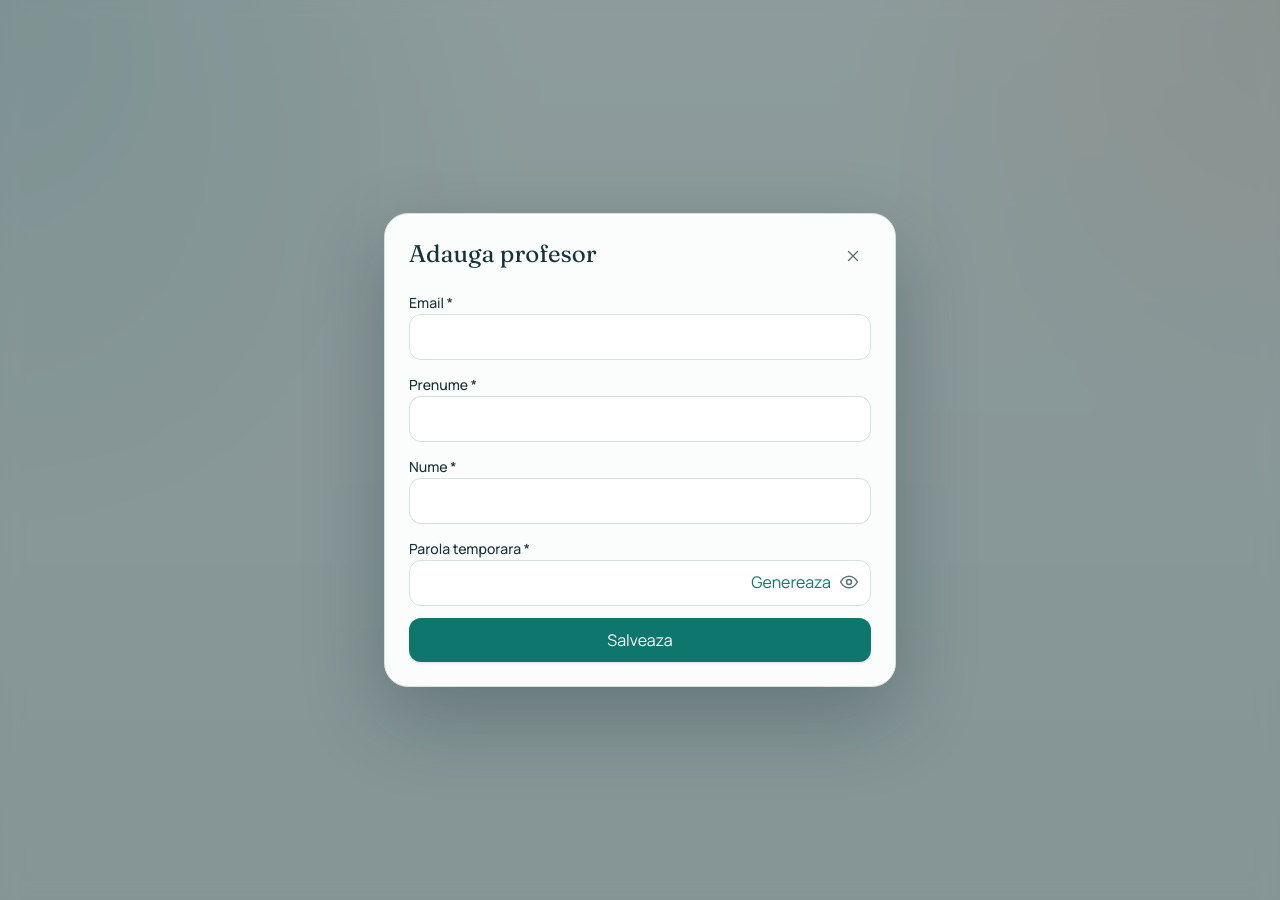
it: TeacherFormModal › keeps the form open when the server refuses the data
This screenshot has width=1280, height=900.
In the field labelled "Email *": point(640, 337) left=409, top=314, right=871, bottom=360, type "prof@scoala.ro"
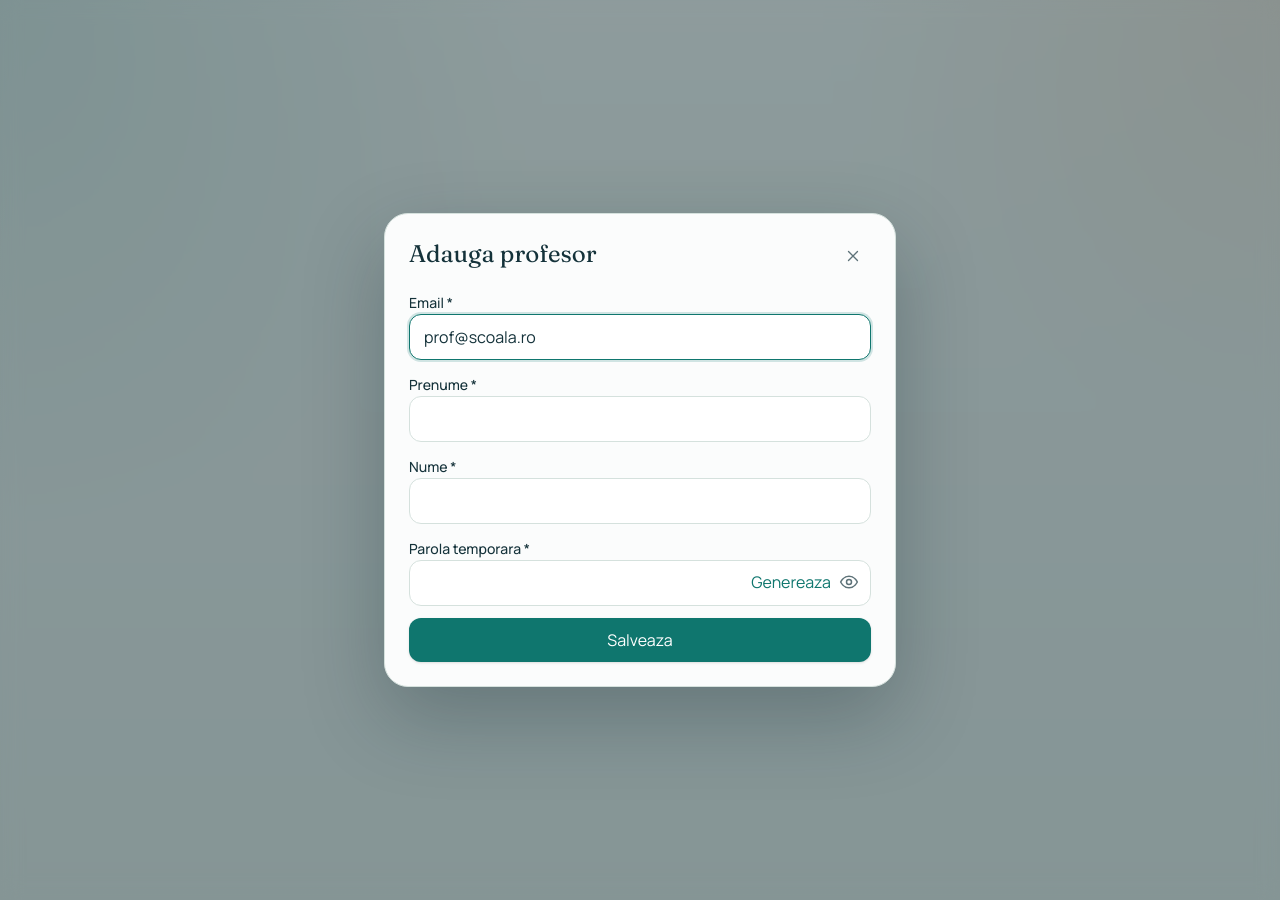
In the field labelled "Prenume *": point(640, 419) left=409, top=396, right=871, bottom=442, type "Ion"
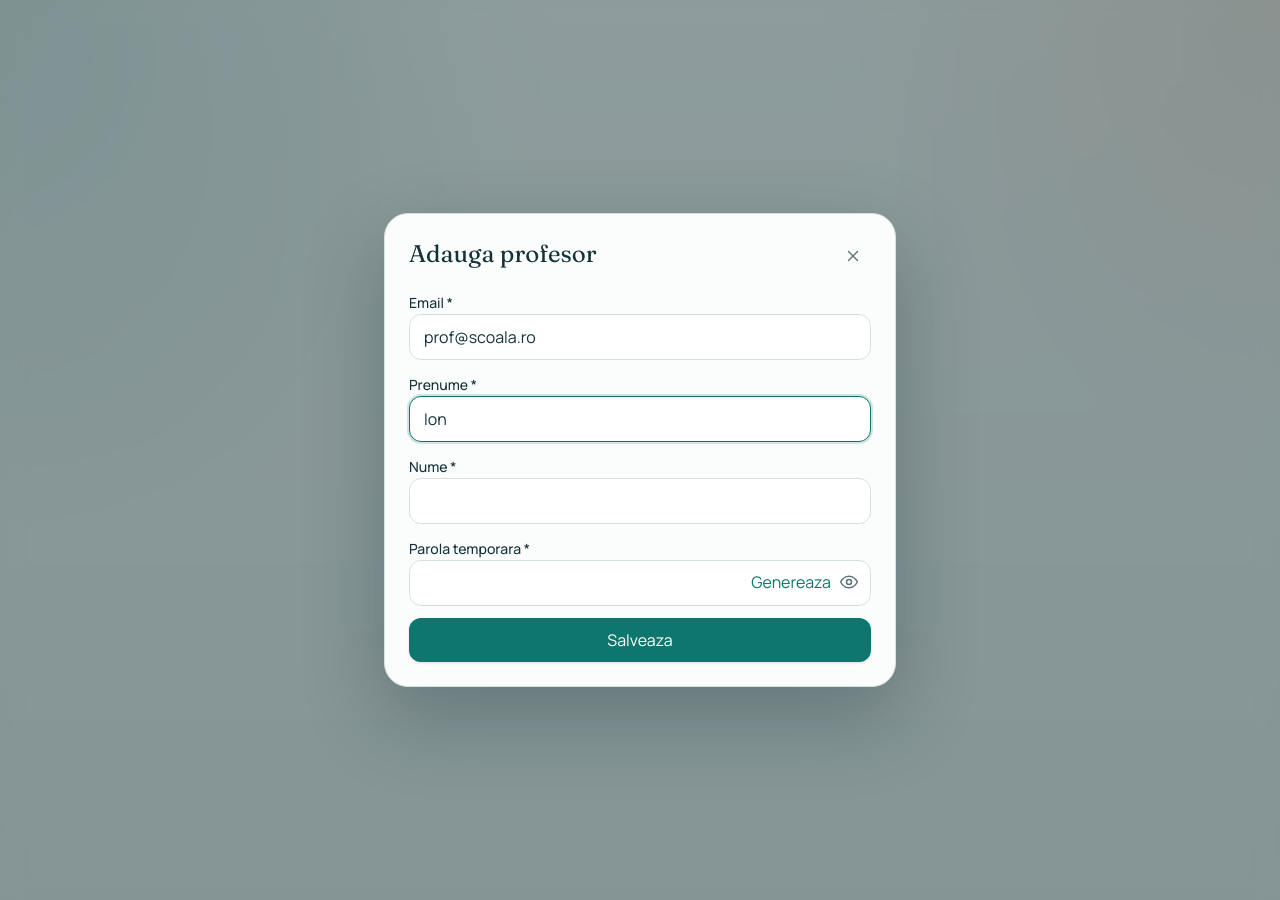
In the field labelled "Nume *": point(640, 501) left=409, top=478, right=871, bottom=524, type "Pop"
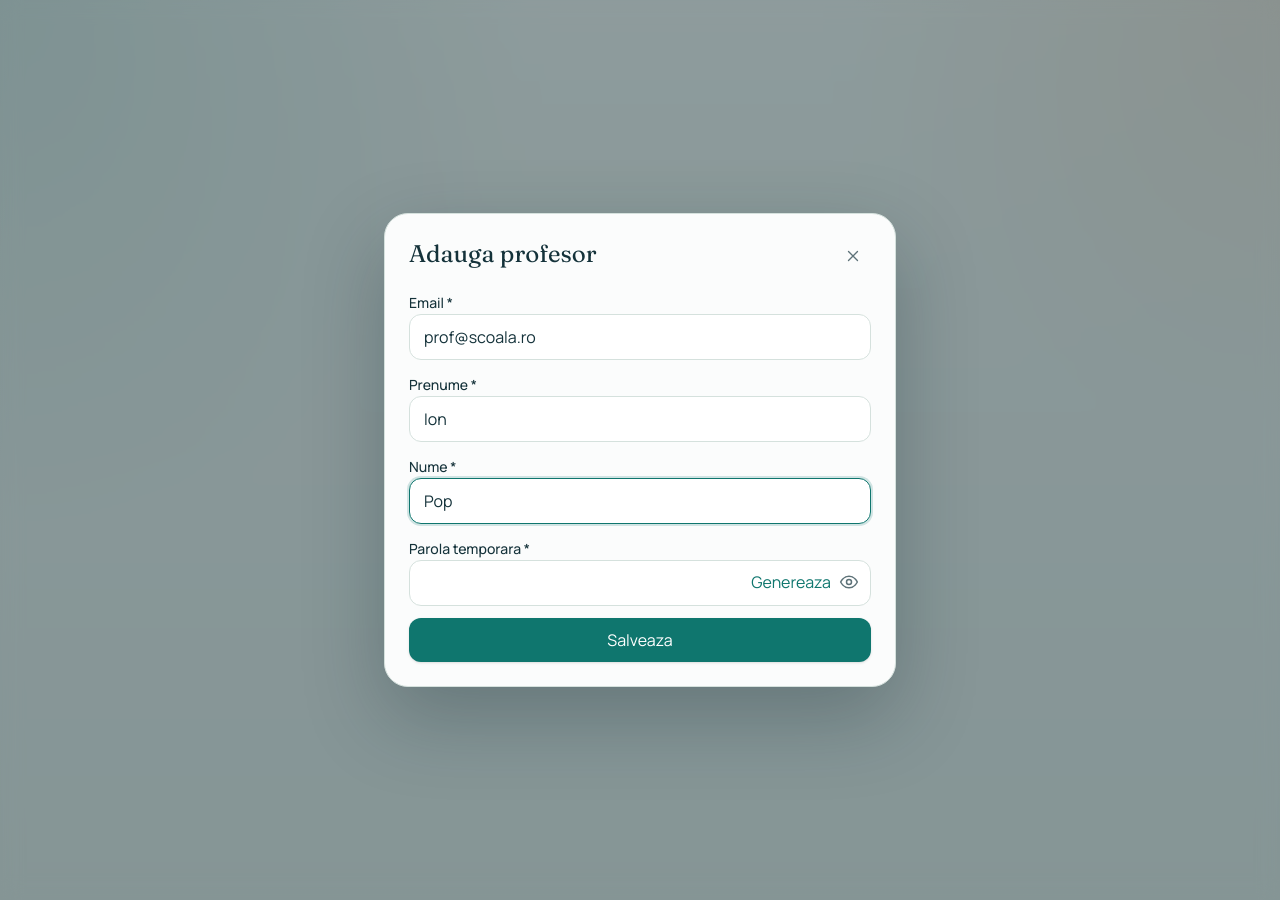
Click the button "Genereaza": point(791, 582) left=751, top=570, right=831, bottom=594
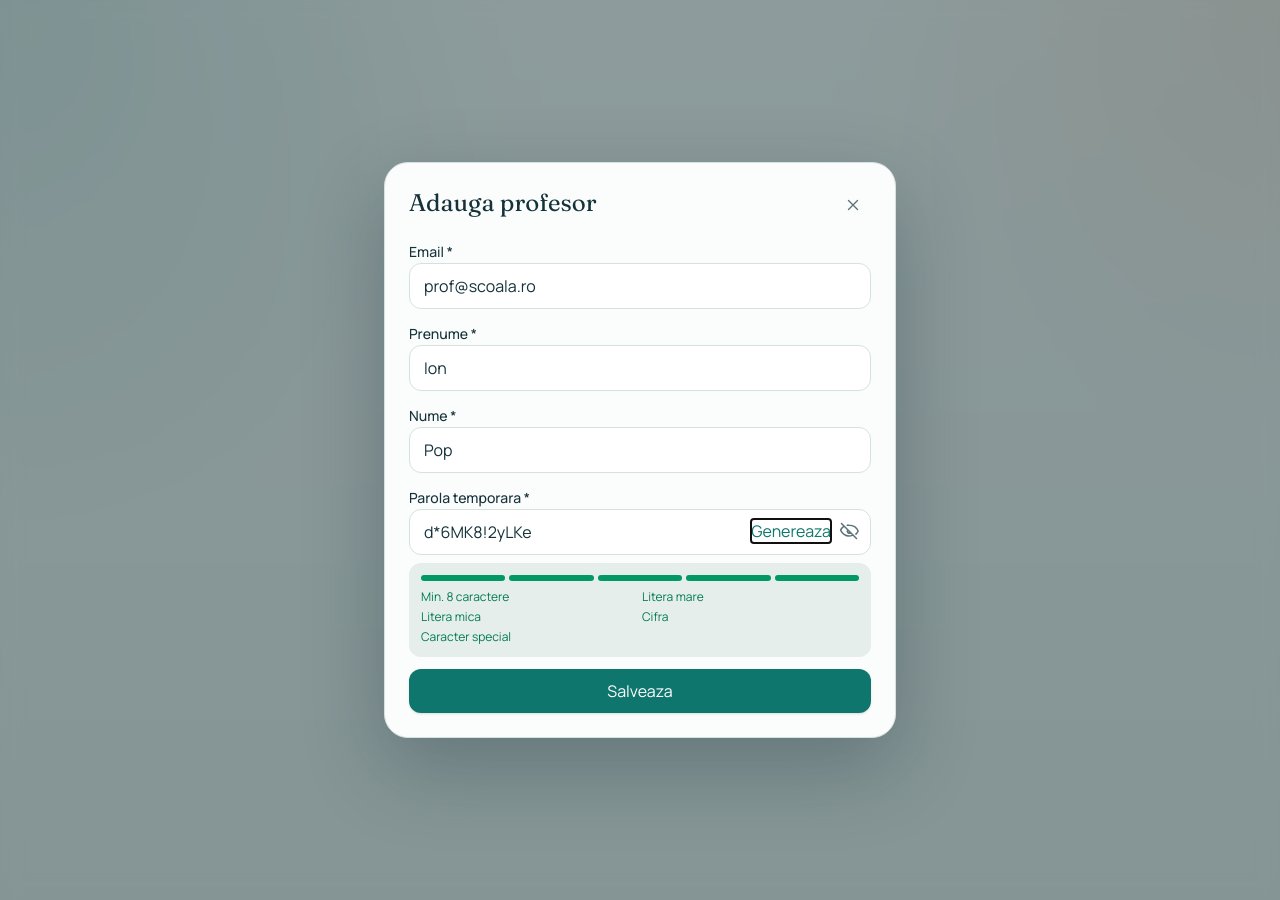
Click the button "Salveaza": point(640, 691) left=409, top=669, right=871, bottom=713
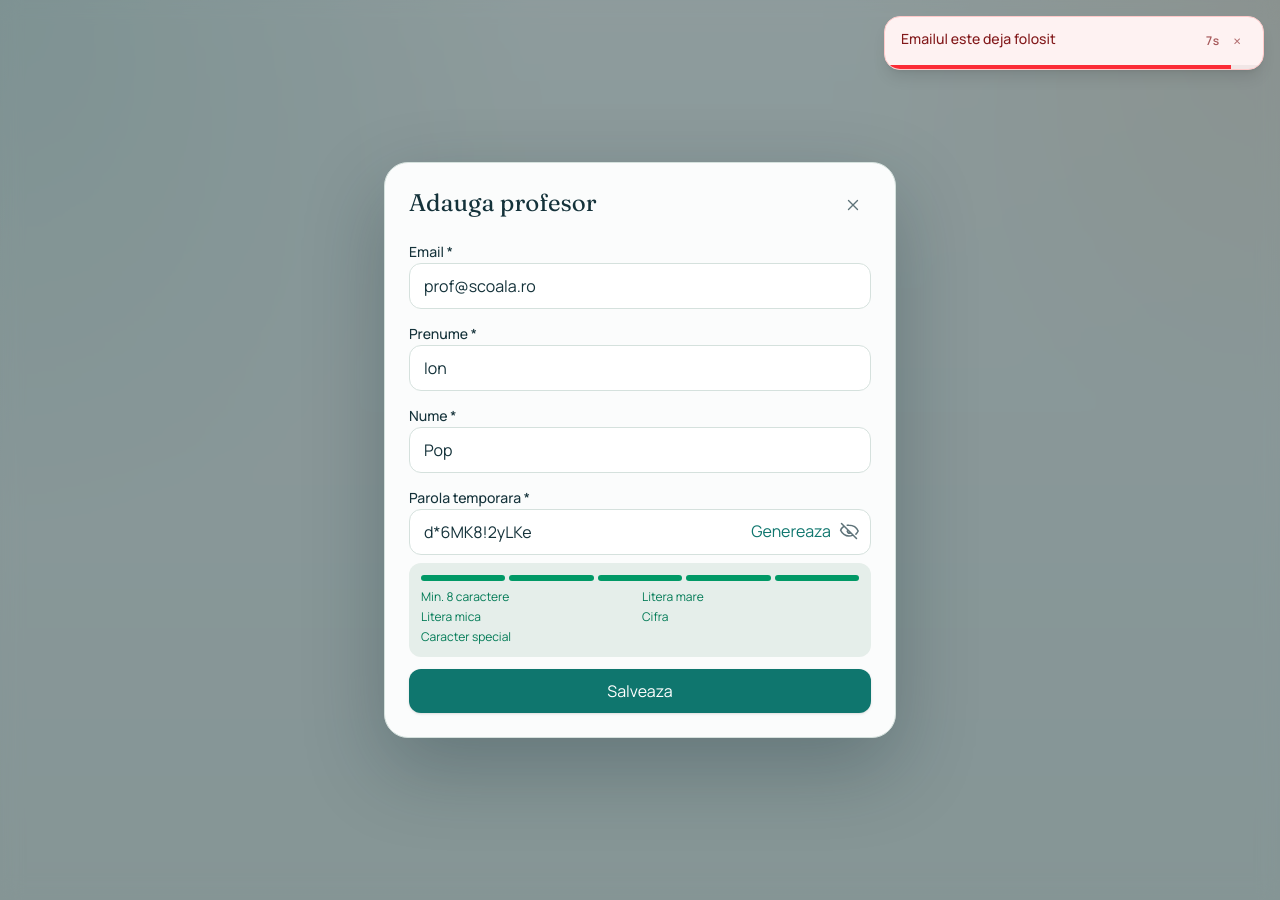
Expected: the heading "Adauga profesor" is shown, left=409, top=187, right=596, bottom=219
Now the text "Emailul este deja folosit" is shown, box left=901, top=29, right=1056, bottom=48
